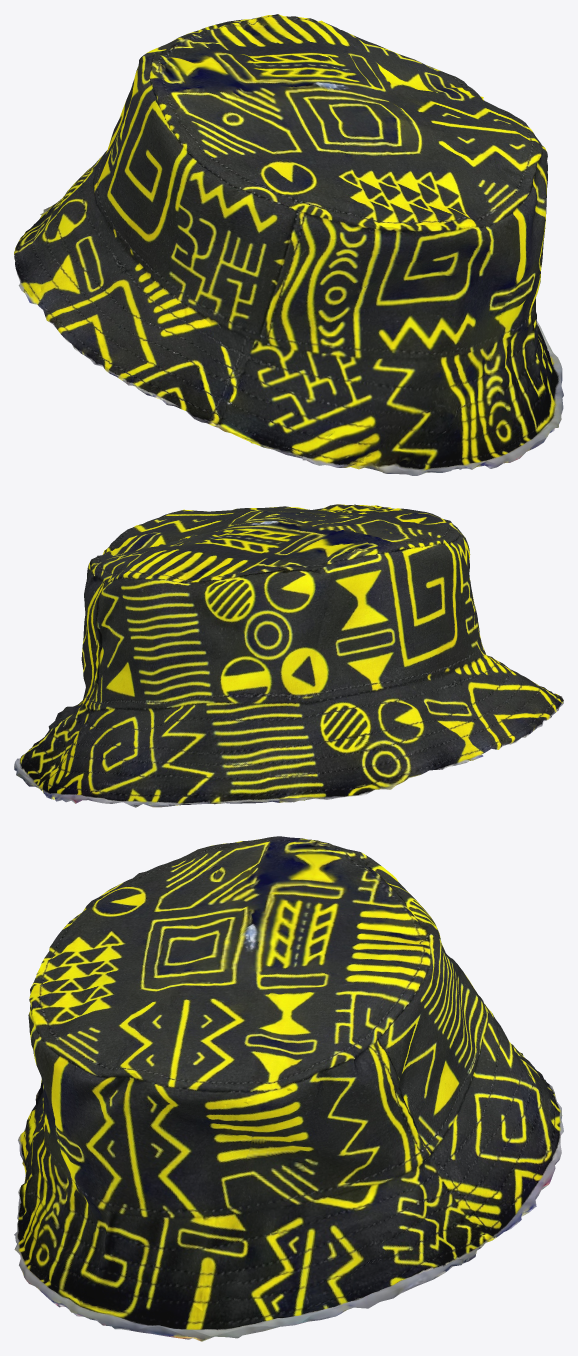
File: fashion_bucket_hat.glb
3 renders of one model, top to bottom at view 1: azimuth 30°, elevation 25°; view 2: azimuth 150°, elevation 25°; view 3: azimuth 270°, elevation 25°, orthographic. The views are drawn at different scales.
Visible parts, largest first — view 1: Object_4; view 2: Object_4; view 3: Object_4.
Boxes of the visible parts, bbox=[...] form: Object_4: bbox=[14, 14, 563, 475]; Object_4: bbox=[14, 504, 563, 807]; Object_4: bbox=[14, 836, 563, 1341].
Bounding box in the file's own units: 0.2448 × 0.1661 × 0.2409.
Materials: 1 (1 with a texture image).
